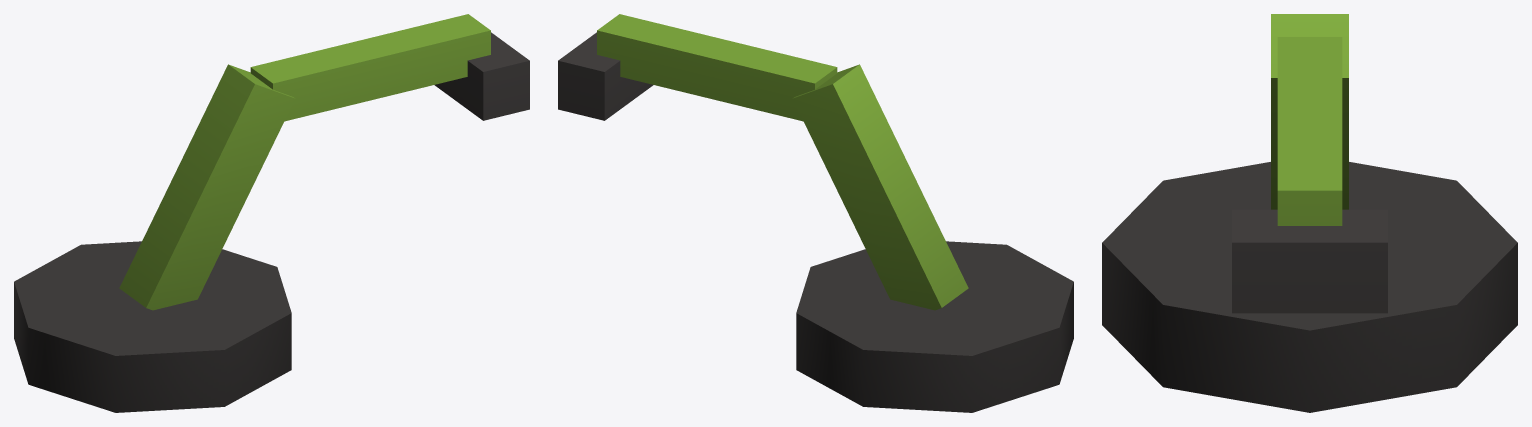
Rendered from bulk-inserter.glb.
The picture shows the model from 3 angles, left to right: view 1: azimuth 30°, elevation 25°; view 2: azimuth 150°, elevation 25°; view 3: azimuth 270°, elevation 25°; orthographic projection. The views are drawn at different scales.
Visible parts, largest first — view 1: bulk-inserter; view 2: bulk-inserter; view 3: bulk-inserter.
Part boxes in pixels (x1,y1,x2,y2): bulk-inserter: (14,14,529,412); bulk-inserter: (558,14,1073,412); bulk-inserter: (1102,14,1517,412).
Size of the model in its own units: 0.305 by 0.1587 by 0.16.
